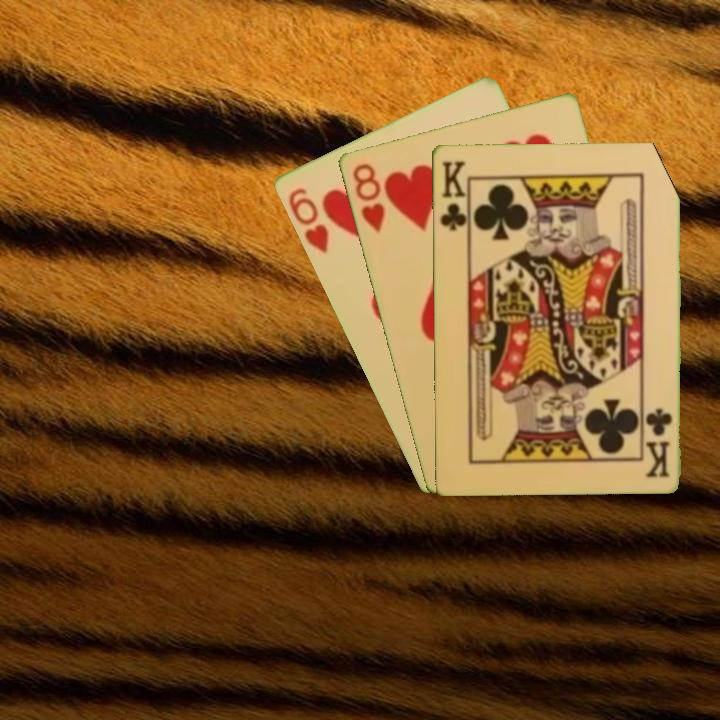6h: (284, 184, 331, 256)
8h: (348, 159, 387, 235)
Kc: (436, 157, 470, 238), (643, 405, 674, 480)
